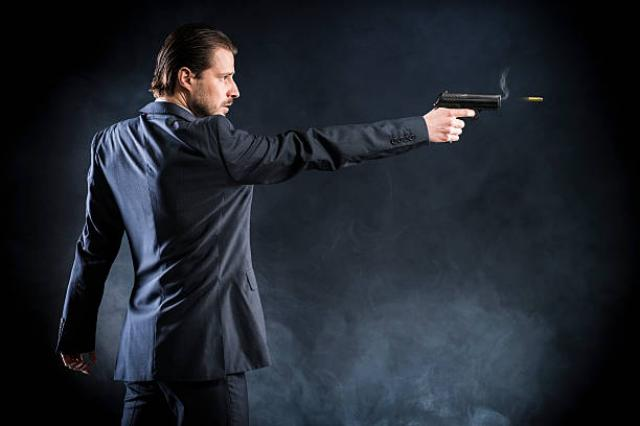handgun: (428, 88, 508, 126)
